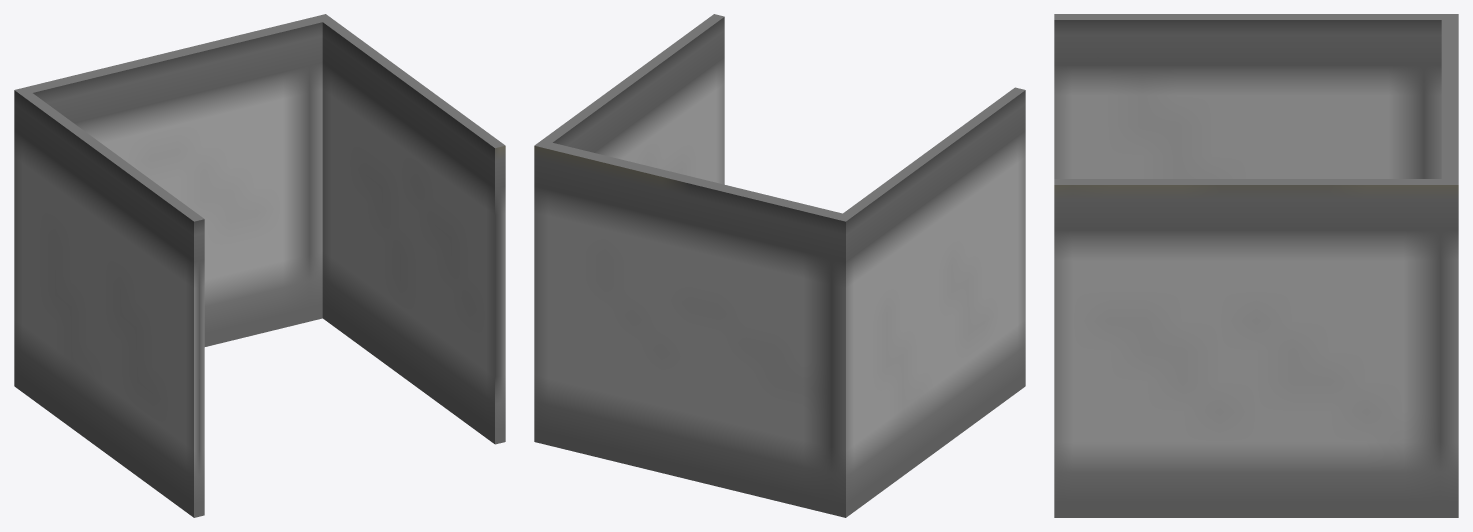
The model's file is CubicleFix.fbx.
The picture shows the model from 3 angles, left to right: view 1: azimuth 30°, elevation 25°; view 2: azimuth 150°, elevation 25°; view 3: azimuth 270°, elevation 25°; orthographic projection. The views are drawn at different scales.
Parts seen in each view (by area): view 1: Cubicle; view 2: Cubicle; view 3: Cubicle.
Boxes of the visible parts, bbox=[...] form: Cubicle: bbox=[14, 14, 505, 517]; Cubicle: bbox=[534, 14, 1025, 517]; Cubicle: bbox=[1054, 14, 1458, 517].
Size of the model in its own units: 2 by 1.82 by 2.
